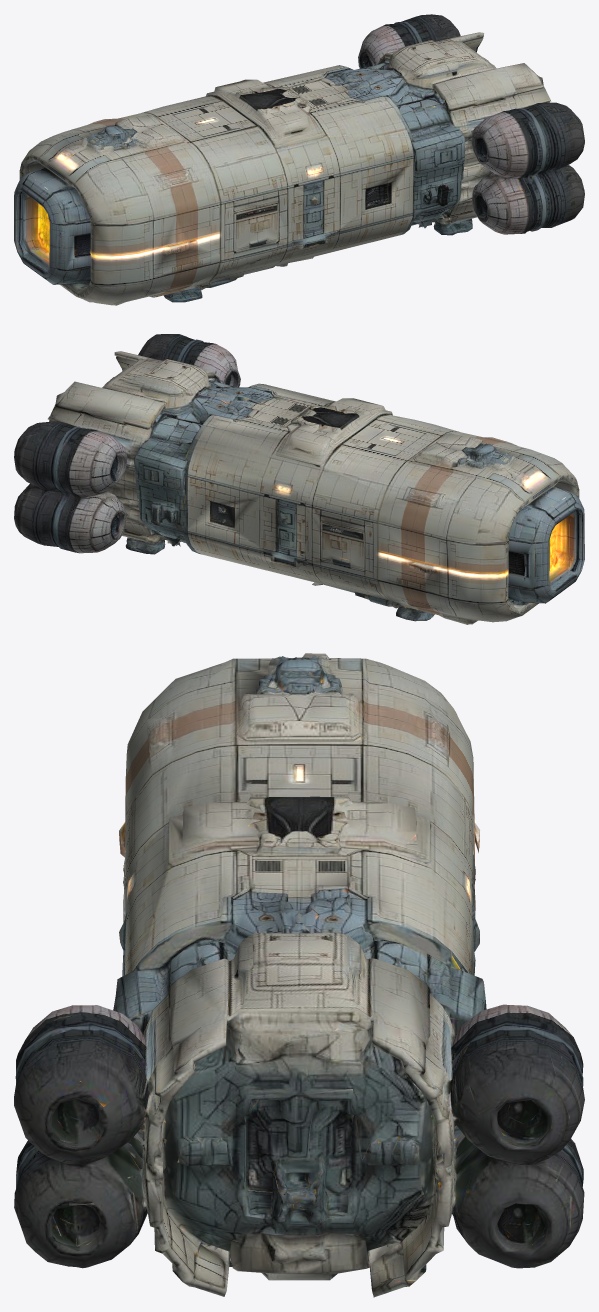
The model's file is nonwarp_medium_colony.glb.
The picture shows the model from 3 angles, top to bottom: view 1: azimuth 30°, elevation 25°; view 2: azimuth 150°, elevation 25°; view 3: azimuth 270°, elevation 25°; orthographic projection. The views are drawn at different scales.
Parts seen in each view (by area): view 1: Mesh_0; view 2: Mesh_0; view 3: Mesh_0.
Part boxes in pixels (<box>): Mesh_0: <box>14,14,584,305</box>; Mesh_0: <box>14,334,584,624</box>; Mesh_0: <box>14,653,584,1297</box>.
Bounding box in the file's own units: 1.91 × 0.6317 × 1.07.
Materials: 1 (1 with a texture image).
